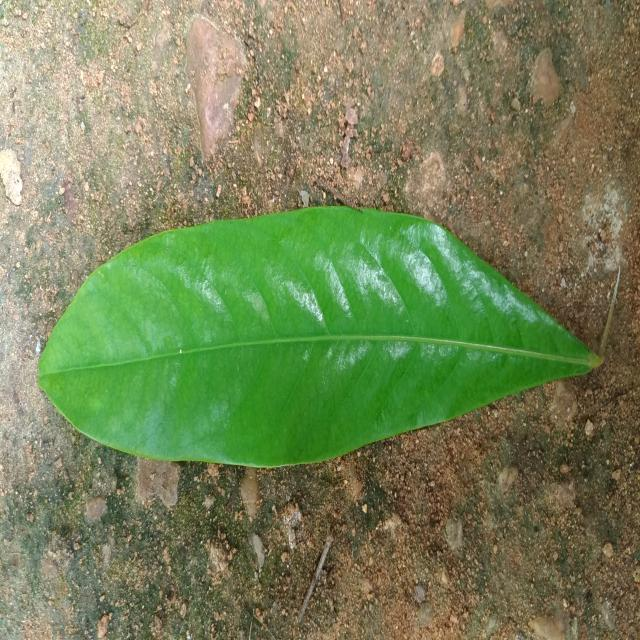seethaashoka: (39, 207, 619, 467)
